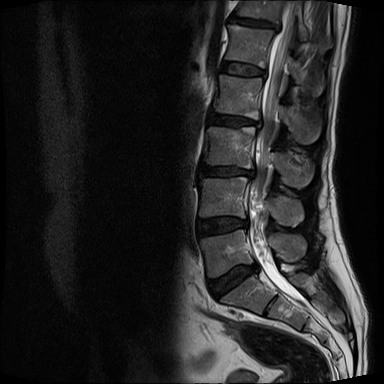Lumbar Disc Bulge (LDB): (199, 256, 267, 304), (190, 212, 257, 242), (204, 107, 267, 134), (196, 158, 261, 181), (216, 55, 269, 83)
Spinal Stenosis (SS): (244, 254, 263, 281), (237, 211, 255, 235), (242, 159, 259, 184), (270, 18, 291, 37), (249, 113, 267, 135), (256, 63, 270, 82)
Thoracic Disc Bulge (TDB): (219, 17, 287, 33)
